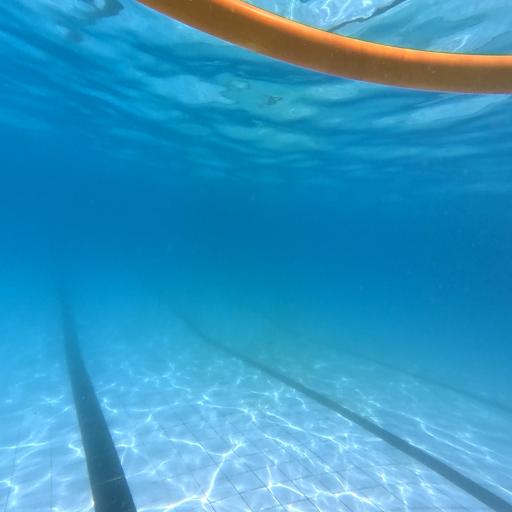upper_gate: (132, 0, 512, 88)
